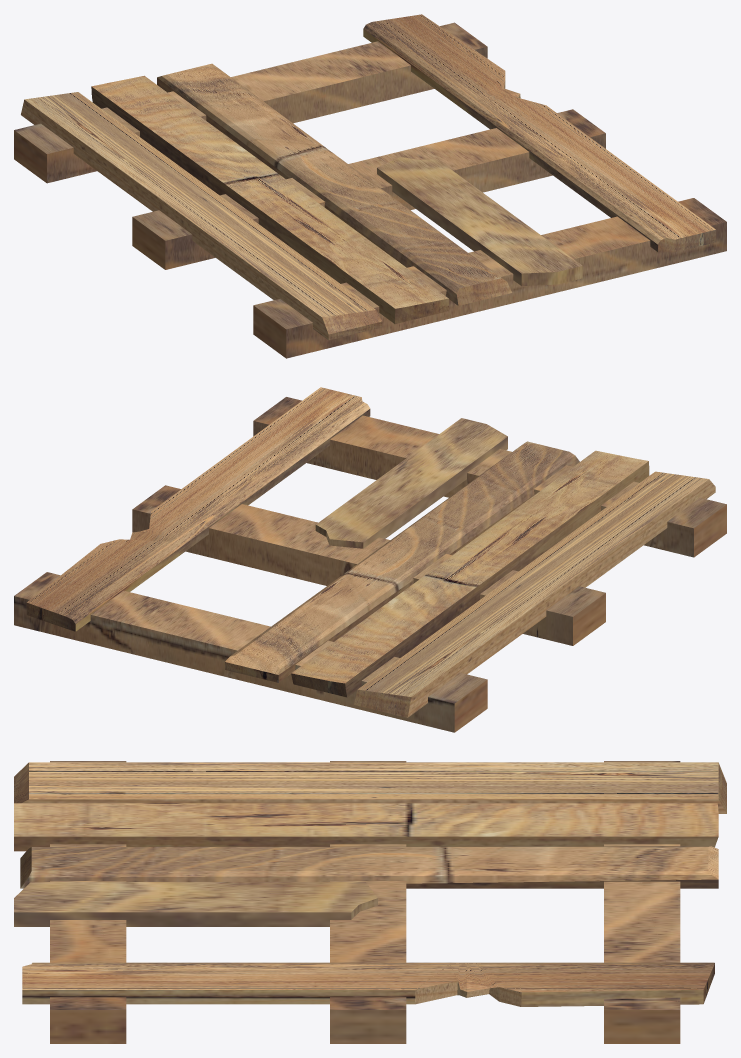
The model's file is plank_stacked.fbx.
3 views of the same model, one above another, from view 1: azimuth 30°, elevation 25°; view 2: azimuth 150°, elevation 25°; view 3: azimuth 270°, elevation 25° (orthographic). The views are drawn at different scales.
Parts seen in each view (by area): view 1: Plane.030; view 2: Plane.030; view 3: Plane.030.
Boxes of the visible parts, x1=… form: Plane.030: x1=14, y1=14, x2=726, y2=358; Plane.030: x1=14, y1=387, x2=726, y2=732; Plane.030: x1=14, y1=761, x2=726, y2=1043.
Size of the model in its own units: 451 by 40.33 by 546.
